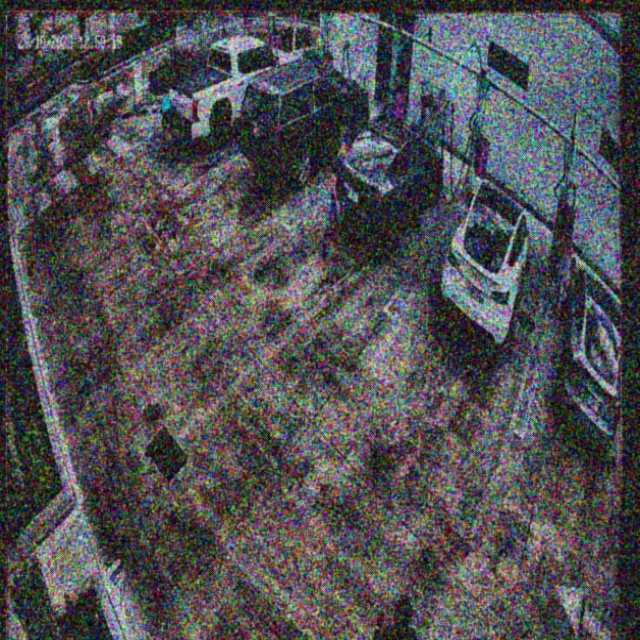Car: (442, 170, 532, 357), (241, 59, 368, 190), (337, 111, 445, 244)
